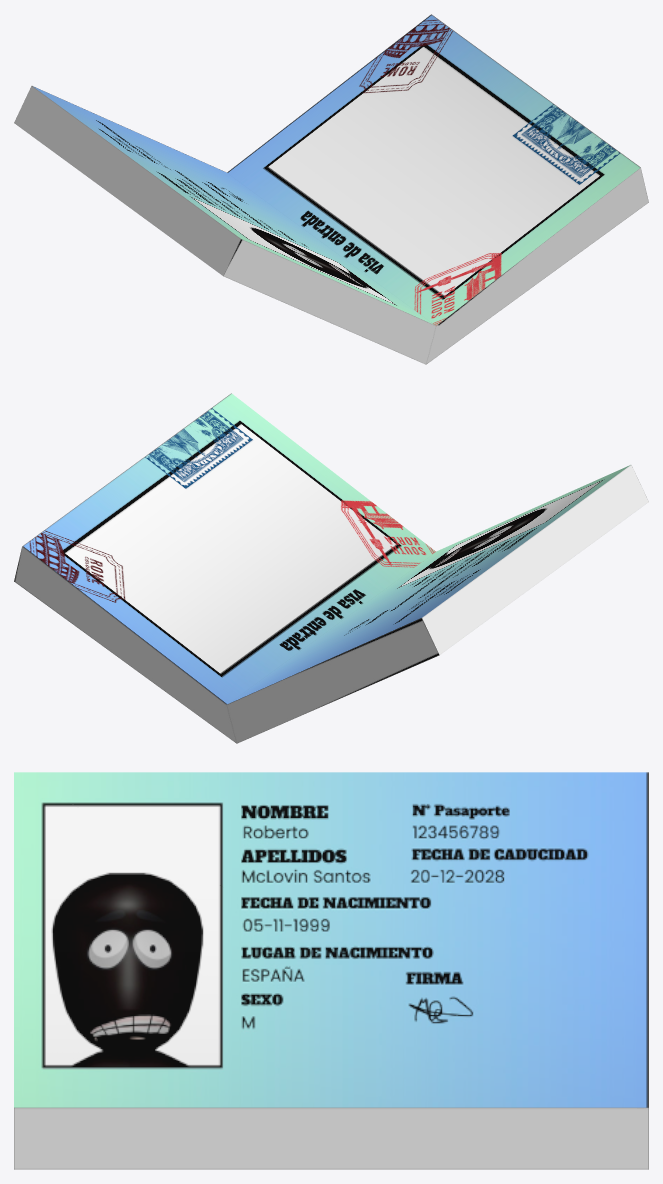
Rendered from pasaportebien.fbx.
3 renders of one model, top to bottom at view 1: azimuth 30°, elevation 25°; view 2: azimuth 150°, elevation 25°; view 3: azimuth 270°, elevation 25°, orthographic. The views are drawn at different scales.
Parts seen in each view (by area): view 1: pCube1; view 2: pCube1; view 3: pCube1.
Boxes of the visible parts, x1=… form: pCube1: x1=14, y1=14, x2=648, y2=364; pCube1: x1=14, y1=393, x2=648, y2=743; pCube1: x1=14, y1=772, x2=648, y2=1169.
Bounding box in the file's own units: 0.5867 × 0.2254 × 0.5.
Materials: 1 (1 with a texture image).
